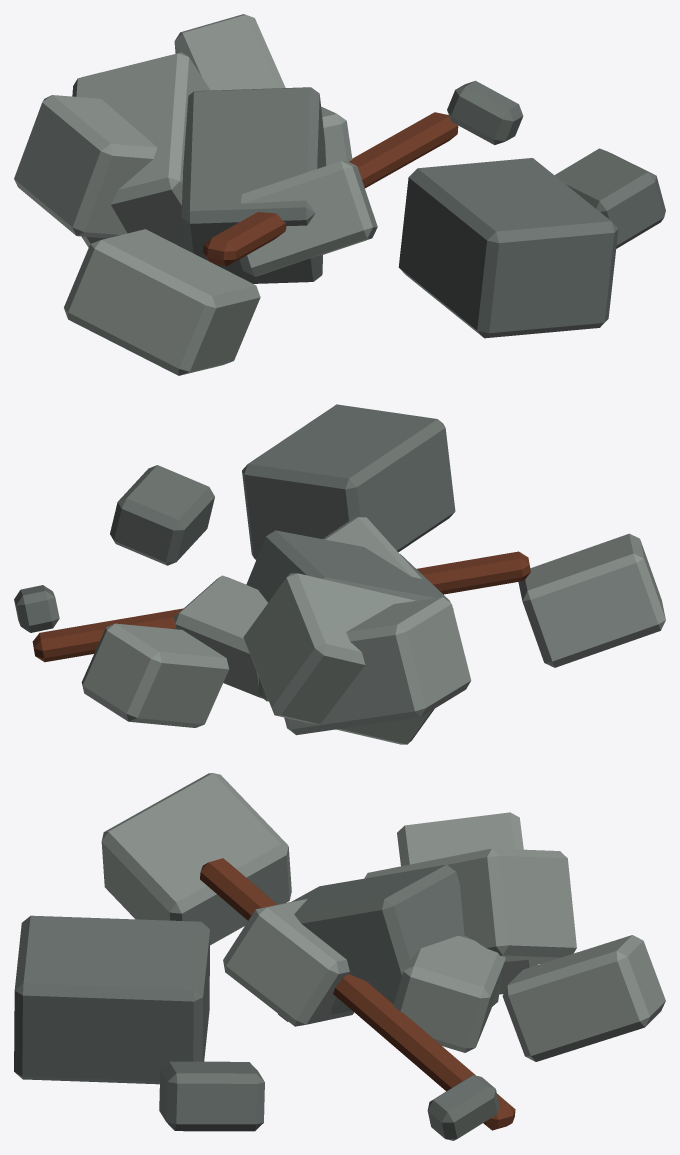
File: RUIN_DET_Rubble.glb
3 renders of one model, top to bottom at view 1: azimuth 30°, elevation 25°; view 2: azimuth 150°, elevation 25°; view 3: azimuth 270°, elevation 25°, orthographic. The views are drawn at different scales.
Visible parts, largest first — view 1: RUIN_DET_Rubble; view 2: RUIN_DET_Rubble; view 3: RUIN_DET_Rubble.
Part boxes in pixels (left/top/right/bottom): RUIN_DET_Rubble: left=14, top=14, right=665, bottom=375; RUIN_DET_Rubble: left=14, top=404, right=665, bottom=744; RUIN_DET_Rubble: left=14, top=773, right=665, bottom=1140.
Size of the model in its own units: 1.49 by 0.4399 by 1.48.
